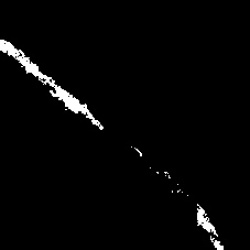crack: (2, 37, 104, 132), (150, 170, 224, 247)
pinhole: (133, 150, 143, 159)
